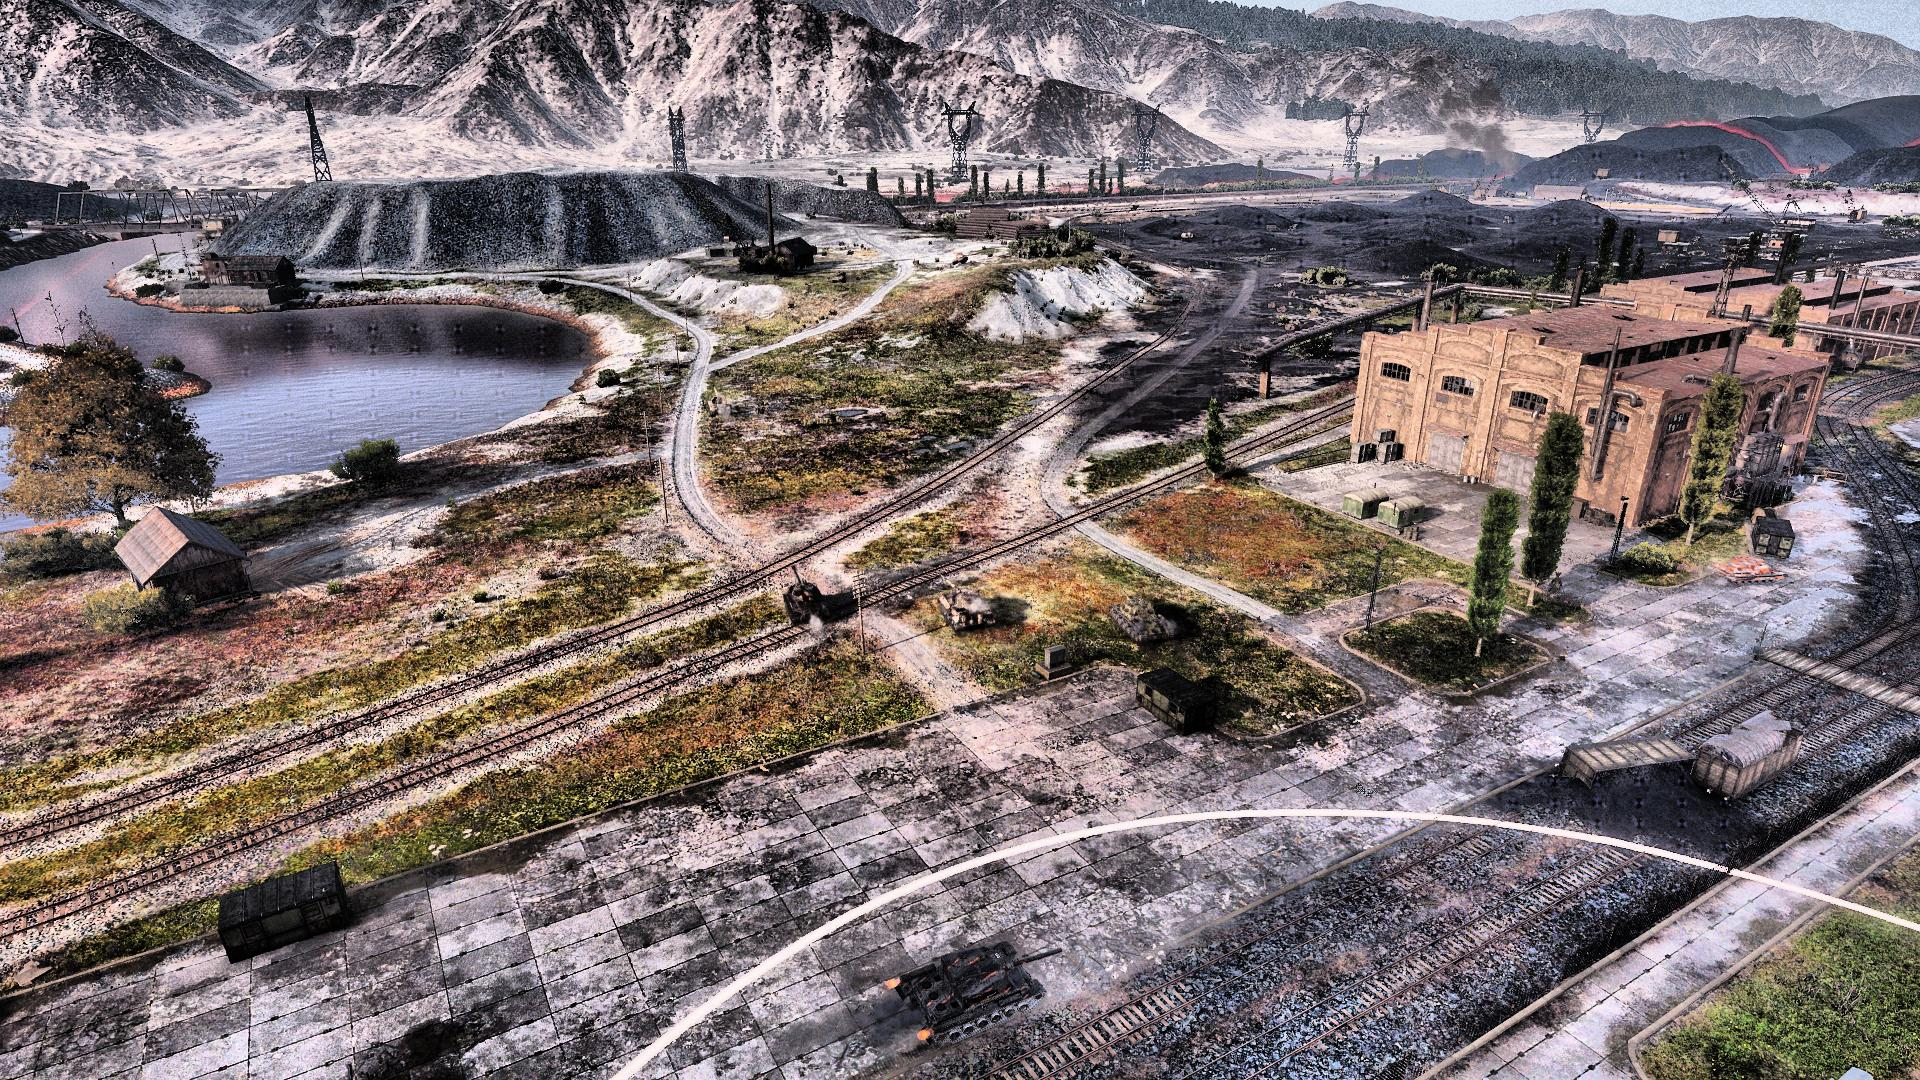military-vehicle: (890, 936, 1060, 1043), (1108, 583, 1172, 644), (782, 563, 833, 621)
